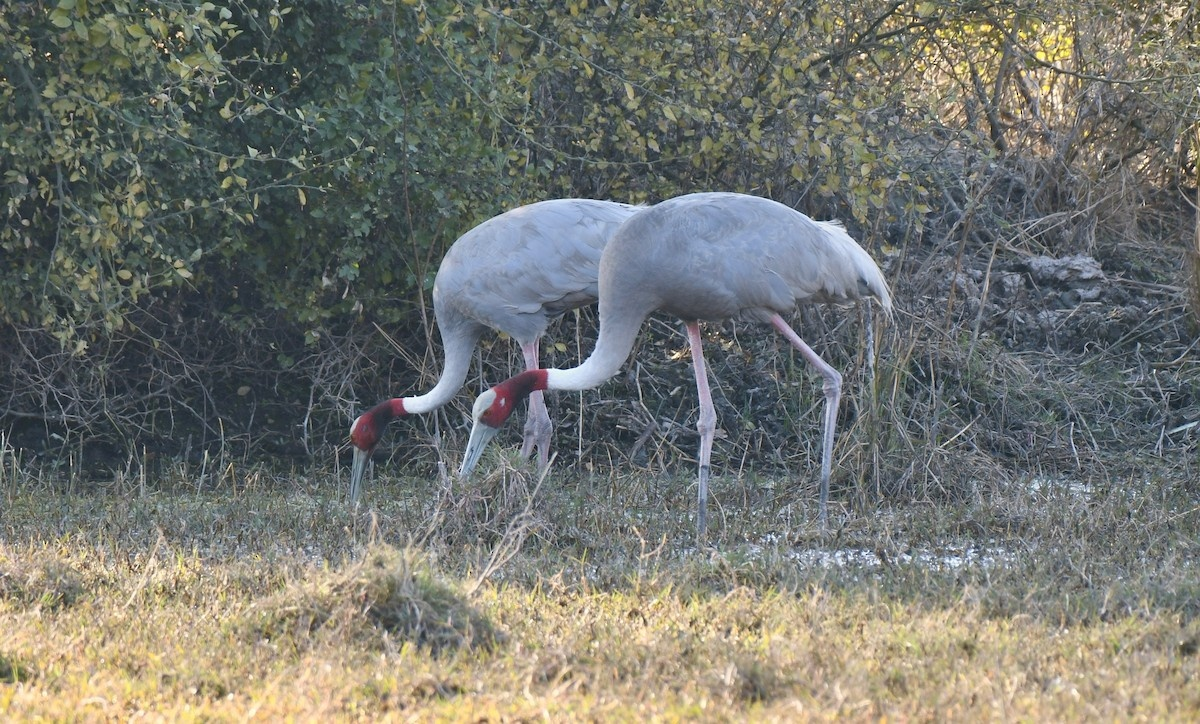crane: (450, 187, 918, 484), (331, 358, 454, 493)
